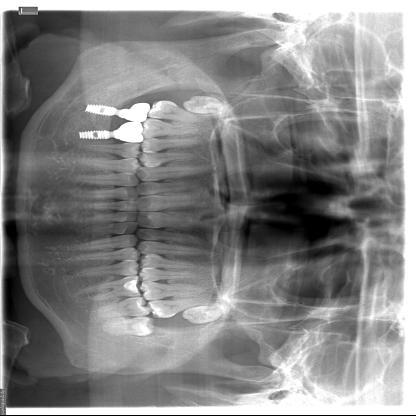Bicon: (74, 128, 113, 142), (82, 104, 118, 119)
